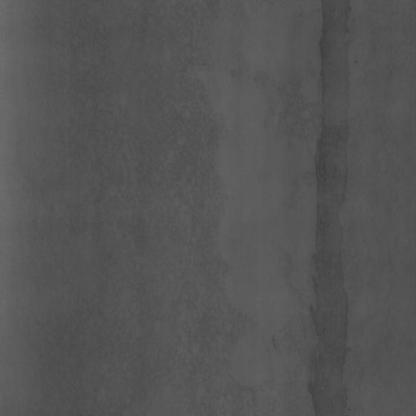water_spot: (290, 2, 358, 406)
